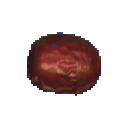gd: (21, 24, 102, 108)
